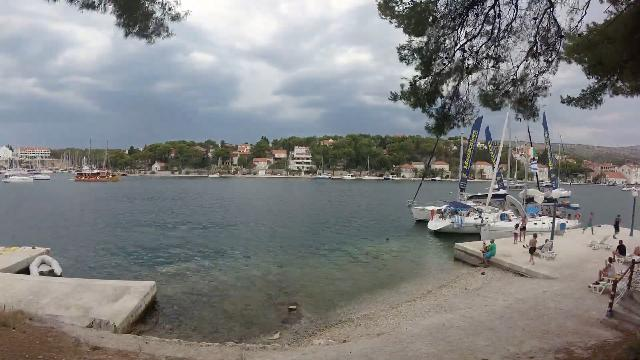Freighter: (70, 166, 121, 184)
Sailboat: (0, 170, 34, 184), (30, 169, 54, 181)
